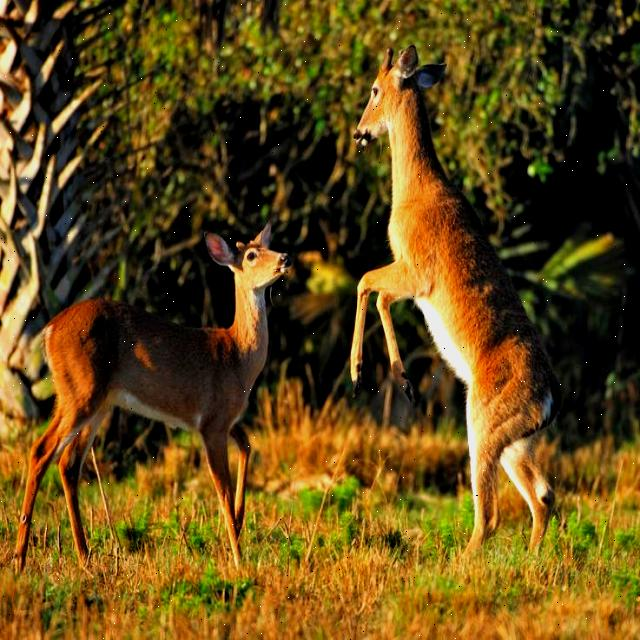deer: (322, 15, 582, 566), (8, 214, 298, 591)
